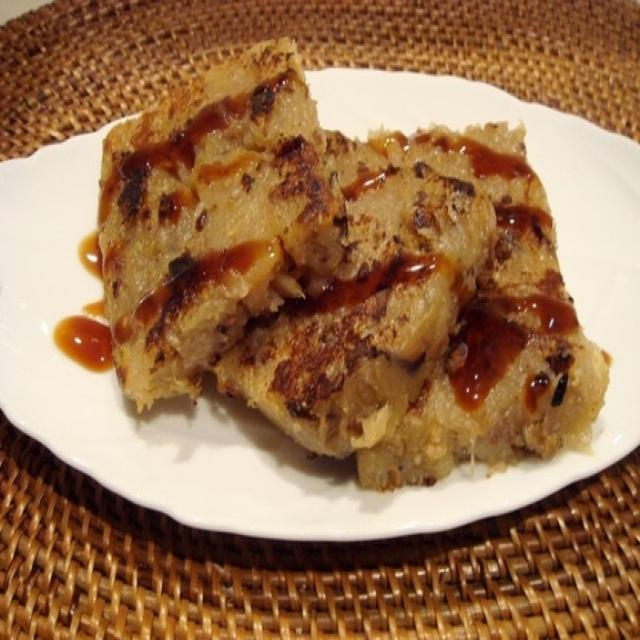蛋糕甜品: (41, 34, 623, 551)
